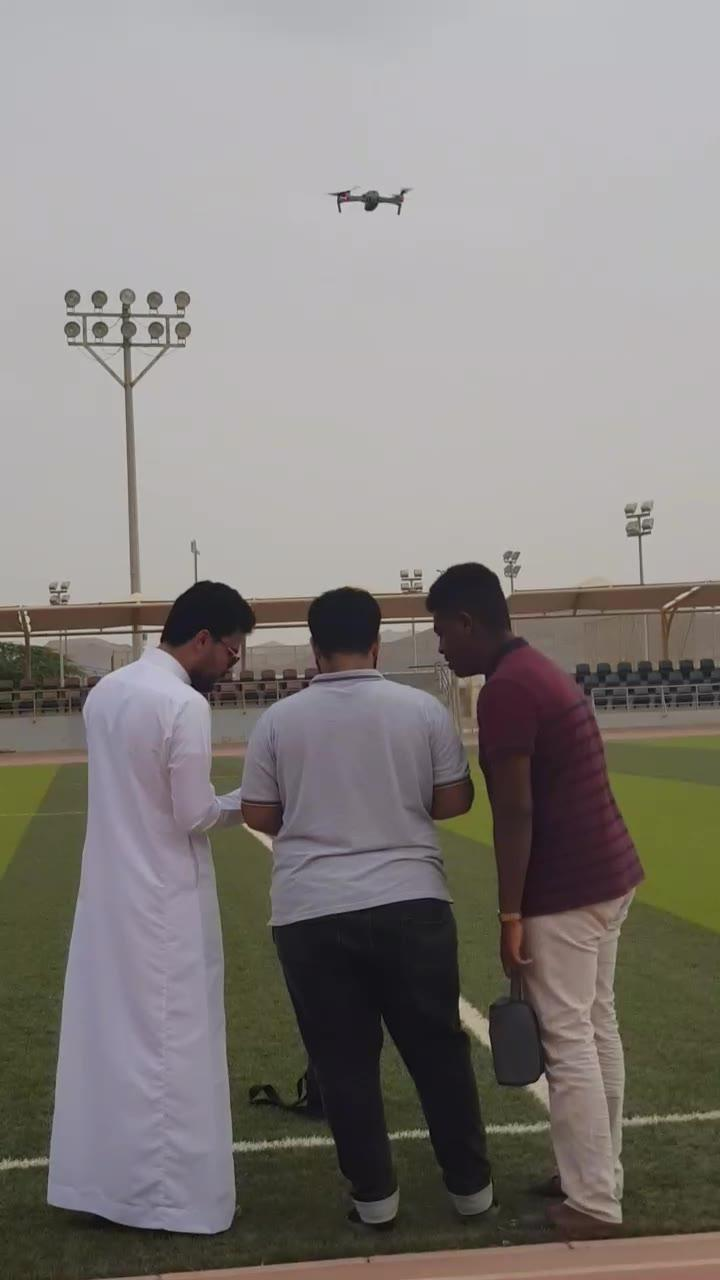drone: (324, 183, 411, 222)
